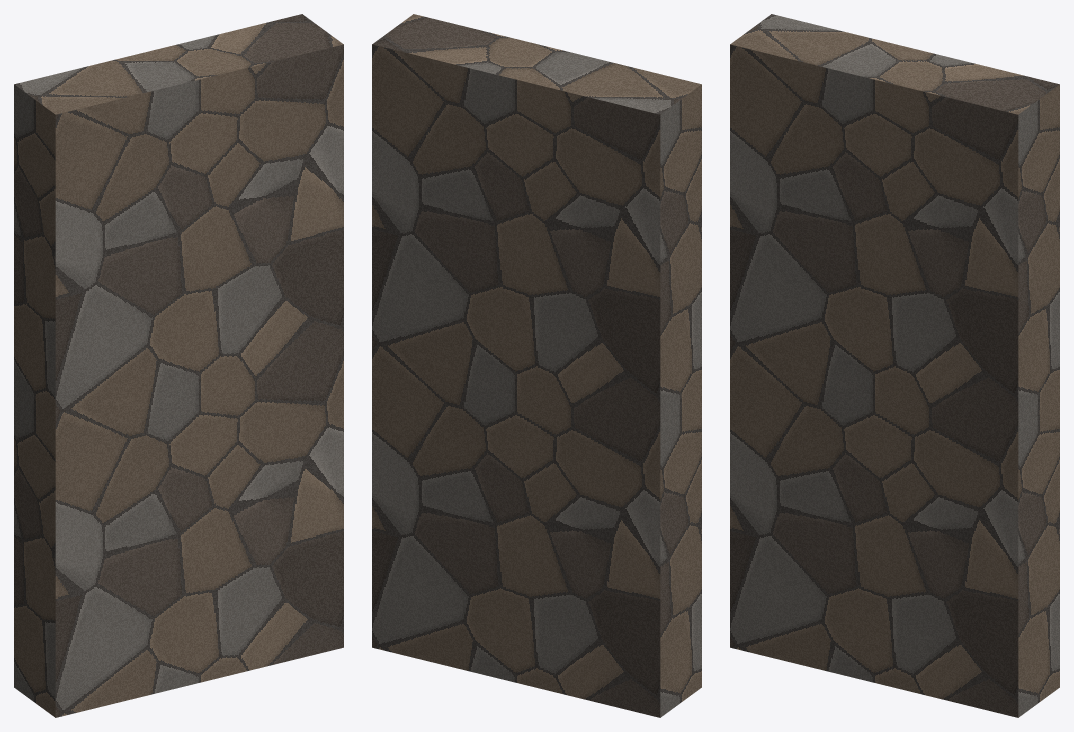
Rendered from mine_wall_half.glb.
The picture shows the model from 3 angles, left to right: view 1: azimuth 30°, elevation 25°; view 2: azimuth 150°, elevation 25°; view 3: azimuth 330°, elevation 25°; orthographic projection.
Parts seen in each view (by area): view 1: mine_wall_half; view 2: mine_wall_half; view 3: mine_wall_half.
Boxes of the visible parts, x1,y1,x2,y2 form: mine_wall_half: (14, 14, 343, 717); mine_wall_half: (372, 14, 701, 717); mine_wall_half: (730, 14, 1059, 717).
Bounding box in the file's own units: 2 × 4 × 0.5.
Materials: 1 (1 with a texture image).
